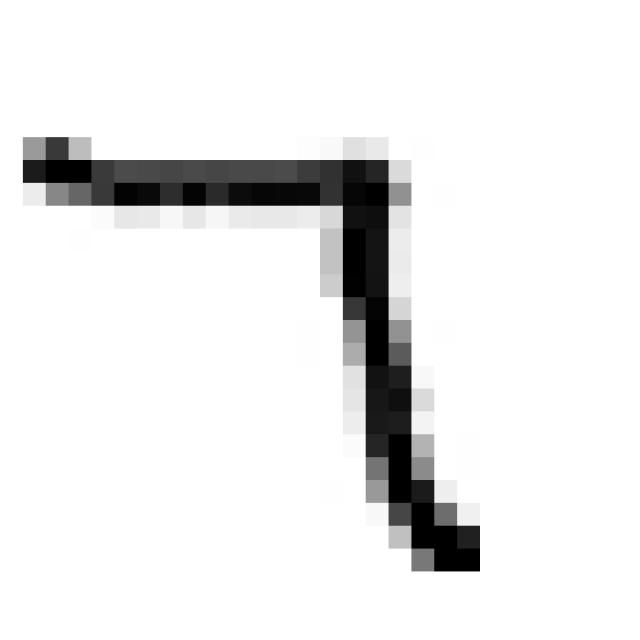6 -six-: (4, 119, 504, 596)
